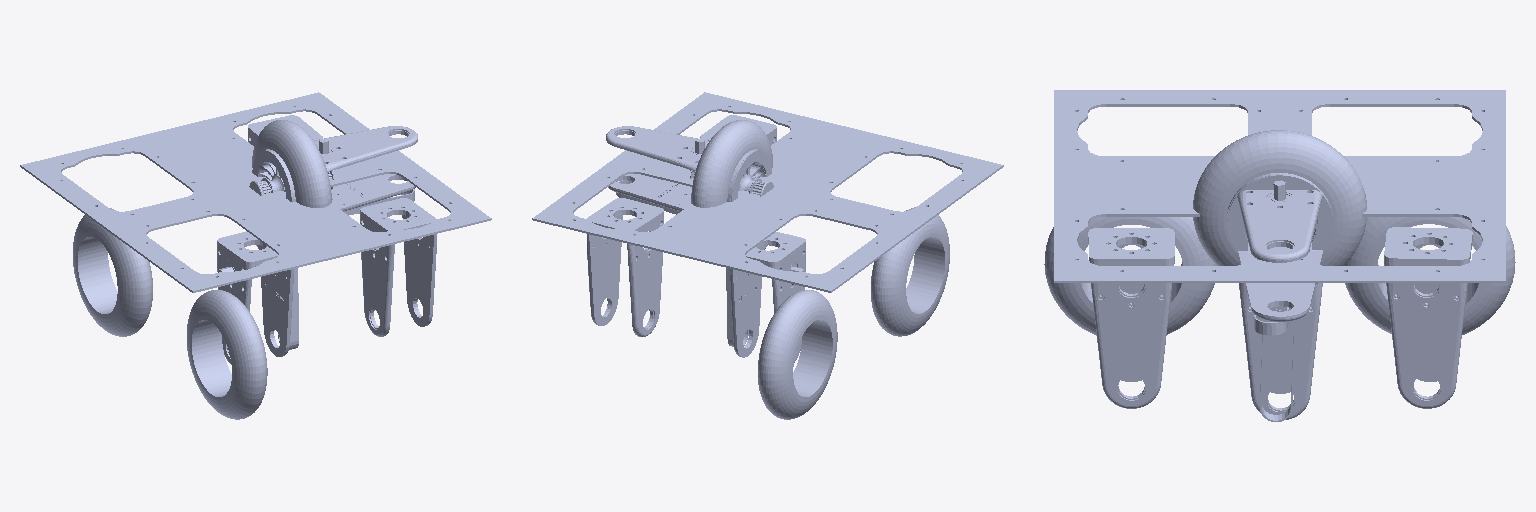
robot.urdf — Assem1.SLDASM:
<?xml version="1.0" encoding="utf-8"?>
<!-- This URDF was automatically created by SolidWorks to URDF Exporter! Originally created by [author] ([email redacted]) 
     Commit Version: 1.6.0-4-g7f85cfe  Build Version: 1.6.7995.38578
     For more information, please see http://wiki.ros.org/sw_urdf_exporter -->
<robot
  name="Assem1.SLDASM">
  <link
    name="base_link">
    <inertial>
      <origin
        xyz="0.000556179898474638 -0.00158750000000002 0.000574353963991236"
        rpy="0 0 0" />
      <mass
        value="0.469800963040705" />
      <inertia
        ixx="0.0102726150177329"
        ixy="-6.90911050262084E-21"
        ixz="-4.81419116505863E-19"
        iyy="0.0194440541787629"
        iyz="-9.19812347285129E-22"
        izz="0.0091722284755855" />
    </inertial>
    <visual>
      <origin
        xyz="0 0 0"
        rpy="0 0 0" />
      <geometry>
        <mesh
          filename="package://Assem1.SLDASM/meshes/base_link.STL" />
      </geometry>
      <material
        name="">
        <color
          rgba="0.792156862745098 0.819607843137255 0.933333333333333 1" />
      </material>
    </visual>
    <collision>
      <origin
        xyz="0 0 0"
        rpy="0 0 0" />
      <geometry>
        <mesh
          filename="package://Assem1.SLDASM/meshes/base_link.STL" />
      </geometry>
    </collision>
  </link>
  <link
    name="Drive1">
    <inertial>
      <origin
        xyz="-0.142620277725139 -0.162382043086687 -0.15605725170458"
        rpy="0 0 0" />
      <mass
        value="0.700310778907897" />
      <inertia
        ixx="0.00397579464273163"
        ixy="-9.06884203023702E-05"
        ixz="3.45375726640274E-09"
        iyy="0.00210243163973906"
        iyz="-1.66795418453045E-10"
        izz="0.00209805170604718" />
    </inertial>
    <visual>
      <origin
        xyz="0 0 0"
        rpy="0 0 0" />
      <geometry>
        <mesh
          filename="package://Assem1.SLDASM/meshes/Drive1.STL" />
      </geometry>
      <material
        name="">
        <color
          rgba="0.792156862745098 0.819607843137255 0.933333333333333 1" />
      </material>
    </visual>
    <collision>
      <origin
        xyz="0 0 0"
        rpy="0 0 0" />
      <geometry>
        <mesh
          filename="package://Assem1.SLDASM/meshes/Drive1.STL" />
      </geometry>
    </collision>
  </link>
  <joint
    name="Drive1"
    type="revolute">
    <origin
      xyz="0 0 -0.003175"
      rpy="0 0 3.1416" />
    <parent
      link="base_link" />
    <child
      link="Drive1" />
    <axis
      xyz="0.99884 -0.048238 0" />
    <limit
      lower="0"
      upper="0"
      effort="0"
      velocity="0" />
  </joint>
  <link
    name="Revolve1">
    <inertial>
      <origin
        xyz="-0.143214402087801 -0.162074090817303 -0.0685300806146876"
        rpy="0 0 0" />
      <mass
        value="0.22984858770233" />
      <inertia
        ixx="0.000785824228188922"
        ixy="6.2529563825433E-06"
        ixz="-4.78549367501566E-08"
        iyy="0.000915027652287981"
        iyz="9.24647508054951E-11"
        izz="0.000409131427459401" />
    </inertial>
    <visual>
      <origin
        xyz="0 0 0"
        rpy="0 0 0" />
      <geometry>
        <mesh
          filename="package://Assem1.SLDASM/meshes/Revolve1.STL" />
      </geometry>
      <material
        name="">
        <color
          rgba="0.792156862745098 0.819607843137255 0.933333333333333 1" />
      </material>
    </visual>
    <collision>
      <origin
        xyz="0 0 0"
        rpy="0 0 0" />
      <geometry>
        <mesh
          filename="package://Assem1.SLDASM/meshes/Revolve1.STL" />
      </geometry>
    </collision>
  </link>
  <joint
    name="Revolve1"
    type="revolute">
    <origin
      xyz="0 0 -0.003175"
      rpy="0 0 3.1416" />
    <parent
      link="base_link" />
    <child
      link="Revolve1" />
    <axis
      xyz="0 0 -1" />
    <limit
      lower="0"
      upper="0"
      effort="0"
      velocity="0" />
  </joint>
  <link
    name="Drive2">
    <inertial>
      <origin
        xyz="-0.142605401992436 0.162948262643954 -0.156057251704581"
        rpy="0 0 0" />
      <mass
        value="0.700310778907893" />
      <inertia
        ixx="0.00398015975318991"
        ixy="5.28194576682954E-06"
        ixz="3.4577688820608E-09"
        iyy="0.00209806652928076"
        iyz="9.71285314274652E-12"
        izz="0.00209805170604717" />
    </inertial>
    <visual>
      <origin
        xyz="0 0 0"
        rpy="0 0 0" />
      <geometry>
        <mesh
          filename="package://Assem1.SLDASM/meshes/Drive2.STL" />
      </geometry>
      <material
        name="">
        <color
          rgba="0.792156862745098 0.819607843137255 0.933333333333333 1" />
      </material>
    </visual>
    <collision>
      <origin
        xyz="0 0 0"
        rpy="0 0 0" />
      <geometry>
        <mesh
          filename="package://Assem1.SLDASM/meshes/Drive2.STL" />
      </geometry>
    </collision>
  </link>
  <joint
    name="Drive2"
    type="revolute">
    <origin
      xyz="0 0 -0.003175"
      rpy="0 0 3.1416" />
    <parent
      link="base_link" />
    <child
      link="Drive2" />
    <axis
      xyz="1 0.002809 0" />
    <limit
      lower="0"
      upper="0"
      effort="0"
      velocity="0" />
  </joint>
  <link
    name="Revolve2">
    <inertial>
      <origin
        xyz="-0.143214478187665 0.16322551938387 -0.068530094925672"
        rpy="0 0 0" />
      <mass
        value="0.229848600316094" />
      <inertia
        ixx="0.000785527113424086"
        ixy="-3.65206700438315E-07"
        ixz="-4.86653554405694E-08"
        iyy="0.000915331655731262"
        iyz="-4.86601071063334E-10"
        izz="0.000409133507346975" />
    </inertial>
    <visual>
      <origin
        xyz="0 0 0"
        rpy="0 0 0" />
      <geometry>
        <mesh
          filename="package://Assem1.SLDASM/meshes/Revolve2.STL" />
      </geometry>
      <material
        name="">
        <color
          rgba="0.792156862745098 0.819607843137255 0.933333333333333 1" />
      </material>
    </visual>
    <collision>
      <origin
        xyz="0 0 0"
        rpy="0 0 0" />
      <geometry>
        <mesh
          filename="package://Assem1.SLDASM/meshes/Revolve2.STL" />
      </geometry>
    </collision>
  </link>
  <joint
    name="Revolve2"
    type="revolute">
    <origin
      xyz="0 0 -0.003175"
      rpy="0 0 3.1416" />
    <parent
      link="base_link" />
    <child
      link="Revolve2" />
    <axis
      xyz="0 0 -1" />
    <limit
      lower="0"
      upper="0"
      effort="0"
      velocity="0" />
  </joint>
  <link
    name="Drive3">
    <inertial>
      <origin
        xyz="0.141491288917795 0.163496597755503 -0.15605725170458"
        rpy="0 0 0" />
      <mass
        value="0.700310778907896" />
      <inertia
        ixx="0.003980015233628"
        ixy="1.73169672115416E-05"
        ixz="-3.45763606570376E-09"
        iyy="0.00209821104884269"
        iyz="-3.18245598270367E-11"
        izz="0.00209805170604718" />
    </inertial>
    <visual>
      <origin
        xyz="0 0 0"
        rpy="0 0 0" />
      <geometry>
        <mesh
          filename="package://Assem1.SLDASM/meshes/Drive3.STL" />
      </geometry>
      <material
        name="">
        <color
          rgba="0.792156862745098 0.819607843137255 0.933333333333333 1" />
      </material>
    </visual>
    <collision>
      <origin
        xyz="0 0 0"
        rpy="0 0 0" />
      <geometry>
        <mesh
          filename="package://Assem1.SLDASM/meshes/Drive3.STL" />
      </geometry>
    </collision>
  </link>
  <joint
    name="Drive3"
    type="revolute">
    <origin
      xyz="0 0 -0.003175"
      rpy="0 0 3.1416" />
    <parent
      link="base_link" />
    <child
      link="Drive3" />
    <axis
      xyz="-0.99996 -0.0092037 0" />
    <limit
      lower="0"
      upper="0"
      effort="0"
      velocity="0" />
  </joint>
  <link
    name="Revolve3">
    <inertial>
      <origin
        xyz="0.142102126847979 0.163223237829568 -0.0685300963694355"
        rpy="0 0 0" />
      <mass
        value="0.229848603142654" />
      <inertia
        ixx="0.000785537042433032"
        ixy="-1.19525742075447E-06"
        ixz="4.86405642410071E-08"
        iyy="0.000915321660523942"
        iyz="7.94074893999989E-10"
        izz="0.000409133513141505" />
    </inertial>
    <visual>
      <origin
        xyz="0 0 0"
        rpy="0 0 0" />
      <geometry>
        <mesh
          filename="package://Assem1.SLDASM/meshes/Revolve3.STL" />
      </geometry>
      <material
        name="">
        <color
          rgba="0.792156862745098 0.819607843137255 0.933333333333333 1" />
      </material>
    </visual>
    <collision>
      <origin
        xyz="0 0 0"
        rpy="0 0 0" />
      <geometry>
        <mesh
          filename="package://Assem1.SLDASM/meshes/Revolve3.STL" />
      </geometry>
    </collision>
  </link>
  <joint
    name="Revolve3"
    type="revolute">
    <origin
      xyz="0 0 -0.003175"
      rpy="0 0 3.1416" />
    <parent
      link="base_link" />
    <child
      link="Revolve3" />
    <axis
      xyz="0 0 -1" />
    <limit
      lower="0"
      upper="0"
      effort="0"
      velocity="0" />
  </joint>
  <link
    name="Drive4">
    <inertial>
      <origin
        xyz="0.142694763627111 -0.162351376680734 -0.15605725170458"
        rpy="0 0 0" />
      <mass
        value="0.700310778907897" />
      <inertia
        ixx="0.00398015273391264"
        ixy="6.4116952541622E-06"
        ixz="3.45776242872249E-09"
        iyy="0.00209807354855806"
        iyz="1.17884268008684E-11"
        izz="0.00209805170604718" />
    </inertial>
    <visual>
      <origin
        xyz="0 0 0"
        rpy="0 0 0" />
      <geometry>
        <mesh
          filename="package://Assem1.SLDASM/meshes/Drive4.STL" />
      </geometry>
      <material
        name="">
        <color
          rgba="0.792156862745098 0.819607843137255 0.933333333333333 1" />
      </material>
    </visual>
    <collision>
      <origin
        xyz="0 0 0"
        rpy="0 0 0" />
      <geometry>
        <mesh
          filename="package://Assem1.SLDASM/meshes/Drive4.STL" />
      </geometry>
    </collision>
  </link>
  <joint
    name="Drive4"
    type="revolute">
    <origin
      xyz="0 0 -0.003175"
      rpy="0 0 3.1416" />
    <parent
      link="base_link" />
    <child
      link="Drive4" />
    <axis
      xyz="0.99999 0.0034092 0" />
    <limit
      lower="0"
      upper="0"
      effort="0"
      velocity="0" />
  </joint>
  <link
    name="Revolve4">
    <inertial>
      <origin
        xyz="0.142085521008204 -0.162074485238042 -0.0685300950644559"
        rpy="0 0 0" />
      <mass
        value="0.229848600569597" />
      <inertia
        ixx="0.000785527593863582"
        ixy="-4.43125056898594E-07"
        ixz="-4.86631305499264E-08"
        iyy="0.000915331168978251"
        iyz="-5.15506534860634E-10"
        izz="0.000409133507874035" />
    </inertial>
    <visual>
      <origin
        xyz="0 0 0"
        rpy="0 0 0" />
      <geometry>
        <mesh
          filename="package://Assem1.SLDASM/meshes/Revolve4.STL" />
      </geometry>
      <material
        name="">
        <color
          rgba="0.792156862745098 0.819607843137255 0.933333333333333 1" />
      </material>
    </visual>
    <collision>
      <origin
        xyz="0 0 0"
        rpy="0 0 0" />
      <geometry>
        <mesh
          filename="package://Assem1.SLDASM/meshes/Revolve4.STL" />
      </geometry>
    </collision>
  </link>
  <joint
    name="Revolve4"
    type="revolute">
    <origin
      xyz="0 0 -0.003175"
      rpy="0 0 3.1416" />
    <parent
      link="base_link" />
    <child
      link="Revolve4" />
    <axis
      xyz="0 0 -1" />
    <limit
      lower="0"
      upper="0"
      effort="0"
      velocity="0" />
  </joint>
</robot>

--- What the picture shows (computed from the rendered views, not written in the file) ---
Views: 3 orthographic renders of the robot side by side, from view 1: azimuth 30°, elevation 25°; view 2: azimuth 150°, elevation 25°; view 3: azimuth 270°, elevation 25°.
Robot: Assem1.SLDASM — 9 links, 8 joints (8 revolute); root link base_link; default pose: every joint at zero.
Links seen in each view (by area): view 1: base_link, Drive3, Drive4, Revolve2, Revolve4, Revolve3, Drive1, Drive2, Revolve1; view 2: base_link, Drive4, Revolve1, Drive3, Revolve4, Revolve3, Drive1, Drive2, Revolve2; view 3: base_link, Drive2, Revolve1, Revolve2, Revolve3, Revolve4, Drive3, Drive4, Drive1.
Link boxes in pixels (box(x1,y1,x2,y2)): base_link: box(20, 92, 491, 292); Drive3: box(187, 290, 267, 419); Drive4: box(73, 208, 152, 336); Revolve2: box(360, 198, 436, 336); Revolve4: box(217, 231, 298, 364); Revolve3: box(314, 126, 417, 215); Drive1: box(252, 121, 333, 207); Drive2: box(249, 120, 331, 205); Revolve1: box(248, 115, 322, 248); base_link: box(532, 92, 1003, 292); Drive4: box(758, 290, 837, 419); Revolve1: box(587, 198, 663, 336); Drive3: box(871, 207, 949, 336); Revolve4: box(726, 232, 805, 362); Revolve3: box(606, 126, 708, 214); Drive1: box(690, 120, 772, 207); Drive2: box(691, 120, 773, 207); Revolve2: box(700, 115, 776, 249); base_link: box(1054, 90, 1505, 282); Drive2: box(1195, 132, 1366, 283); Revolve1: box(1384, 227, 1472, 408); Revolve2: box(1088, 228, 1174, 408); Revolve3: box(1237, 180, 1322, 335); Revolve4: box(1239, 283, 1322, 421); Drive3: box(1044, 217, 1216, 335); Drive4: box(1344, 217, 1515, 334); Drive1: box(1193, 130, 1330, 259).
Bounding box of the posed robot: 0.5118 × 0.5162 × 0.36 m (x, y, z).
9 mesh visuals loaded from 9 distinct referenced files (9 binary STL).